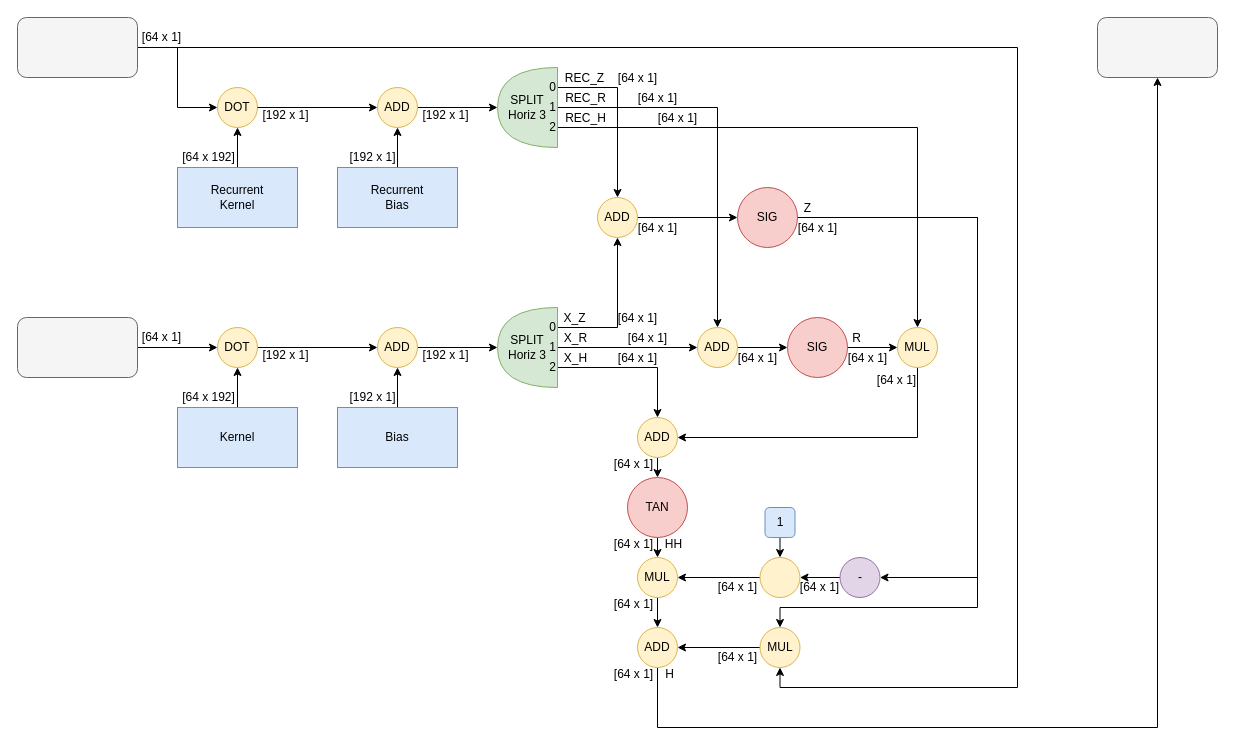
Some shapes in this 1235 by 753 pixel diagram are drawn without their labels. Here are the shapes that lost their labels. From the top down, the centre of each, then its label:
At (77,47): "H_TM1 (cell_states[0])".
At (1157,47): "H (output)".
At (77,347): "INPUT (cell_inputs)".
At (779,577): "ADD (1 - Z)".
